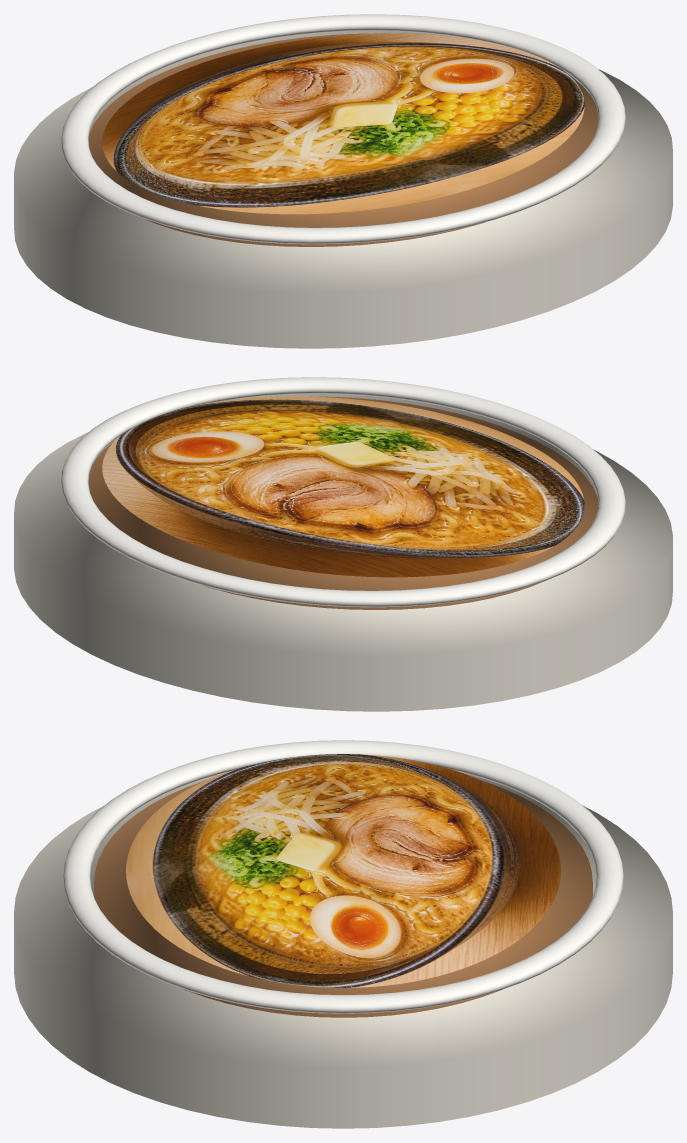
Rendered from miso_ramen.glb.
3 renders of one model, top to bottom at view 1: azimuth 30°, elevation 25°; view 2: azimuth 150°, elevation 25°; view 3: azimuth 270°, elevation 25°, orthographic. The views are drawn at different scales.
Bounding box in the file's own units: 2.24 × 0.4158 × 2.
4 materials, 1 textured.
